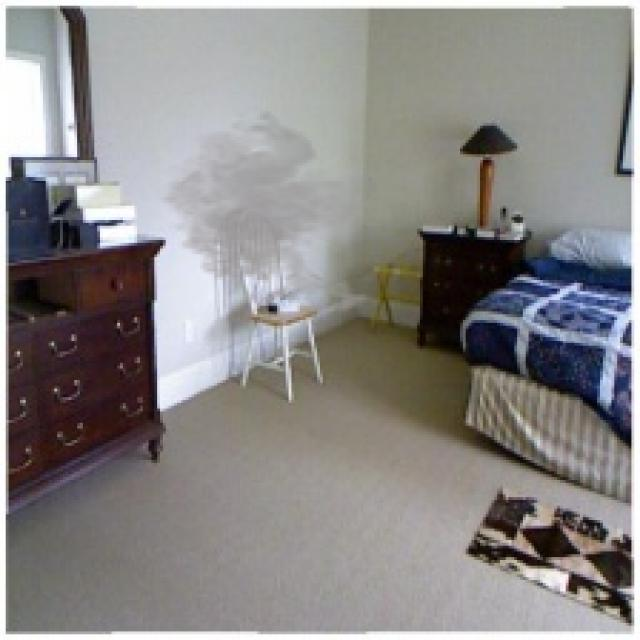smoke: (151, 109, 403, 317)
